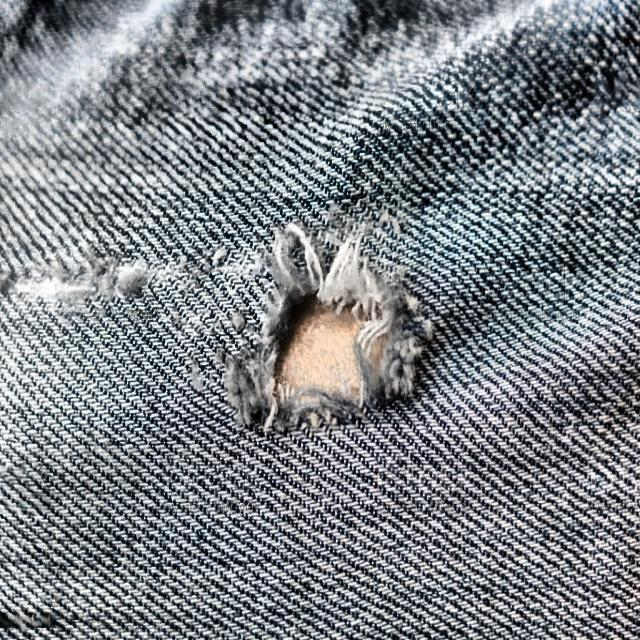cut: (214, 191, 456, 467)
